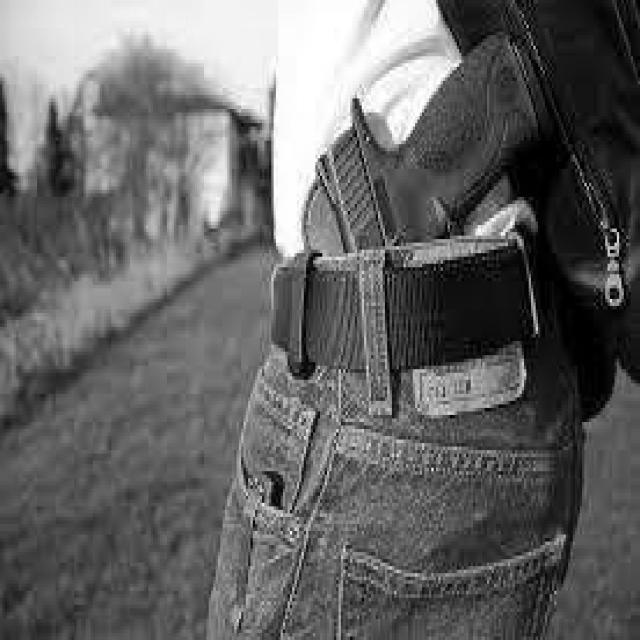handgun: (316, 17, 542, 248)
